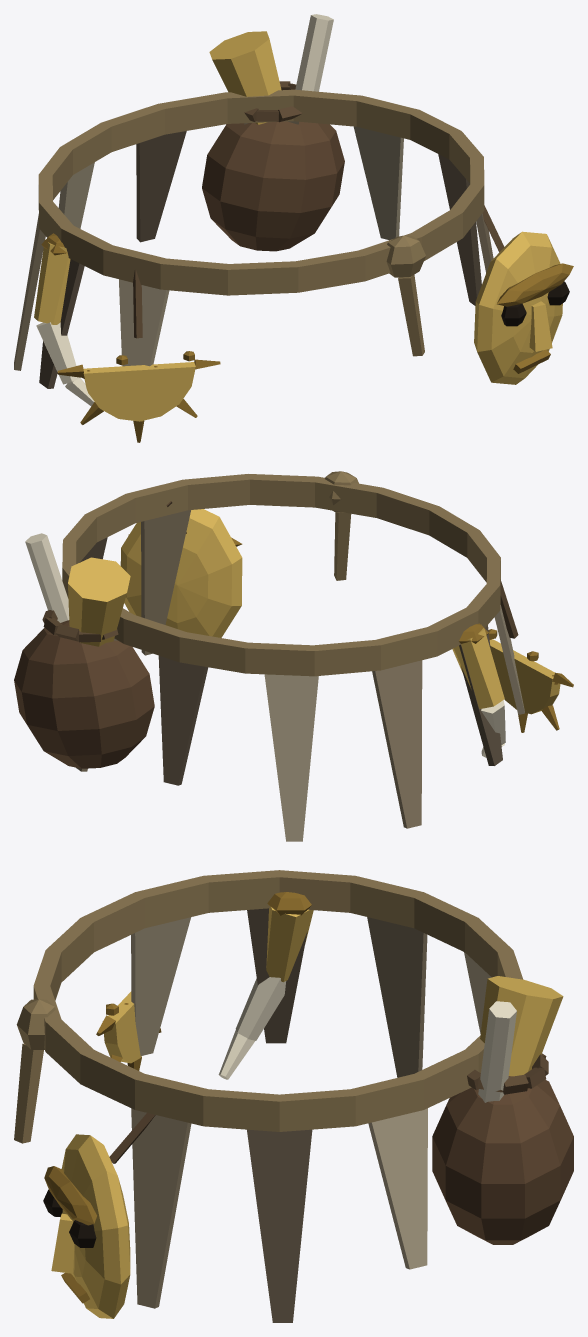
File: relic_scavenger_relics.glb
3 renders of one model, top to bottom at view 1: azimuth 30°, elevation 25°; view 2: azimuth 150°, elevation 25°; view 3: azimuth 270°, elevation 25°, orthographic. The views are drawn at different scales.
Parts seen in each view (by area): view 1: relic_scavenger_relics; view 2: relic_scavenger_relics; view 3: relic_scavenger_relics.
Boxes of the visible parts, box(x1,y1,x2,y2) form: relic_scavenger_relics: box(14, 14, 573, 442); relic_scavenger_relics: box(14, 471, 573, 841); relic_scavenger_relics: box(14, 870, 573, 1322).
Bounding box in the file's own units: 1.19 × 0.5892 × 1.
